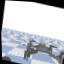drone: (18, 36, 64, 64)
